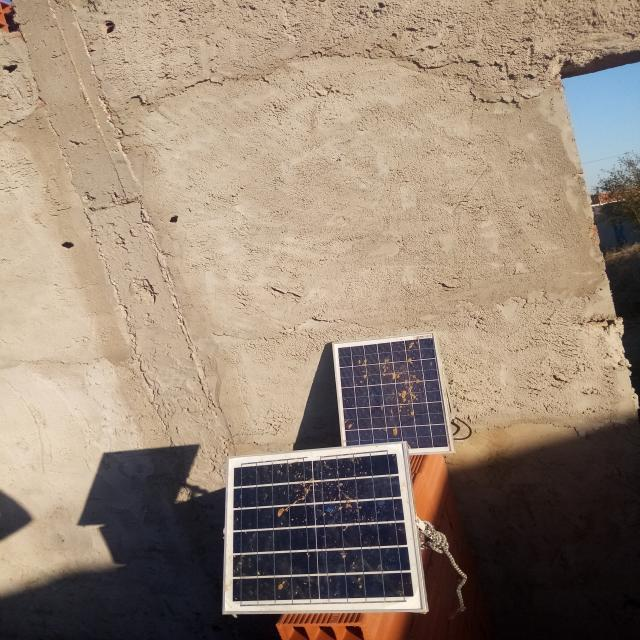faulty: (223, 442, 427, 612), (333, 335, 453, 453)
